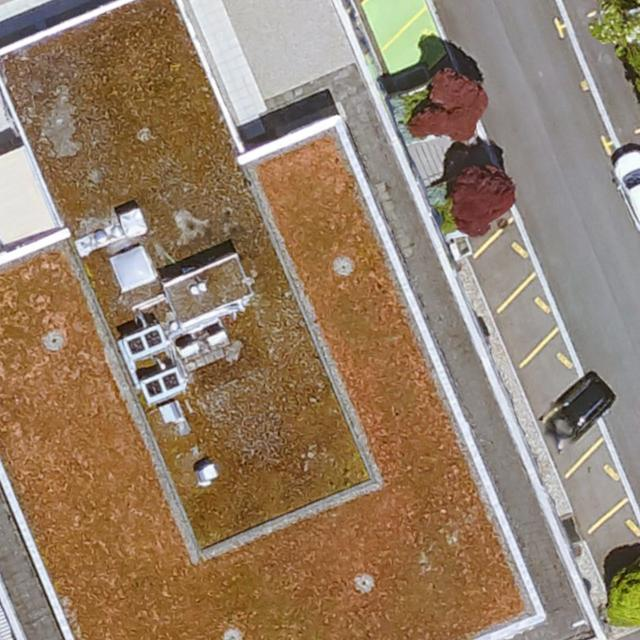tree: (408, 74, 492, 141), (449, 161, 515, 238), (607, 555, 640, 627)
